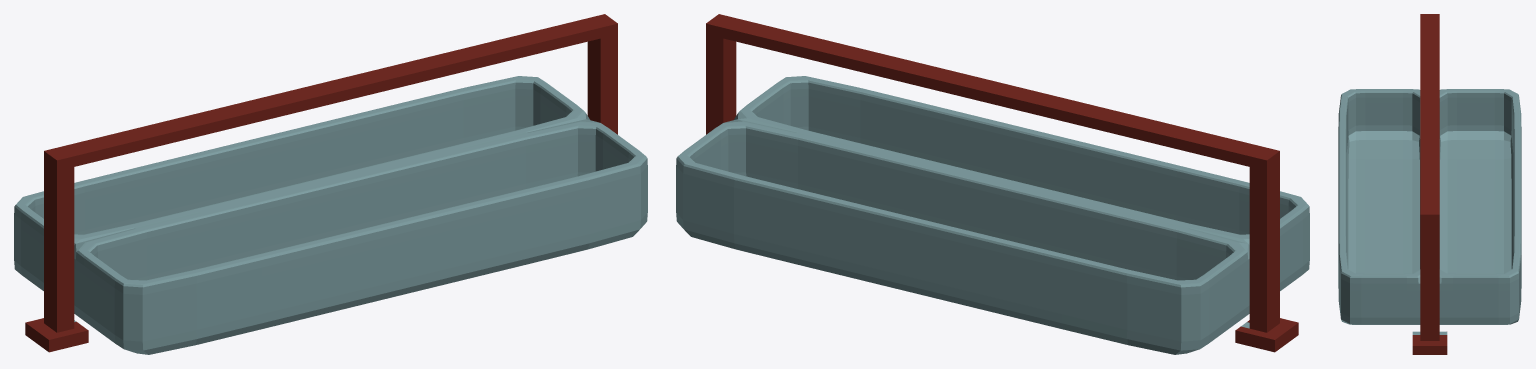
The model's file is water 1.fbx.
3 renders of one model, left to right at view 1: azimuth 30°, elevation 25°; view 2: azimuth 150°, elevation 25°; view 3: azimuth 270°, elevation 25°, orthographic. The views are drawn at different scales.
Parts seen in each view (by area): view 1: Cube, Cube.001; view 2: Cube, Cube.001; view 3: Cube, Cube.001.
Boxes of the visible parts, bbox=[...] form: Cube: bbox=[14, 76, 647, 354]; Cube.001: bbox=[25, 14, 617, 352]; Cube: bbox=[676, 76, 1309, 354]; Cube.001: bbox=[706, 14, 1298, 352]; Cube: bbox=[1338, 89, 1521, 334]; Cube.001: bbox=[1412, 14, 1447, 354].
Size of the model in its own units: 543 by 163 by 200.
